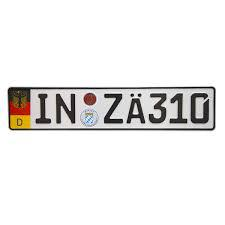0: (190, 92, 210, 124)
1: (169, 91, 189, 126)
3: (147, 92, 168, 125)
I: (35, 91, 53, 126)
N: (55, 92, 76, 126)
Z: (102, 91, 125, 126)
ae: (125, 92, 146, 125)
